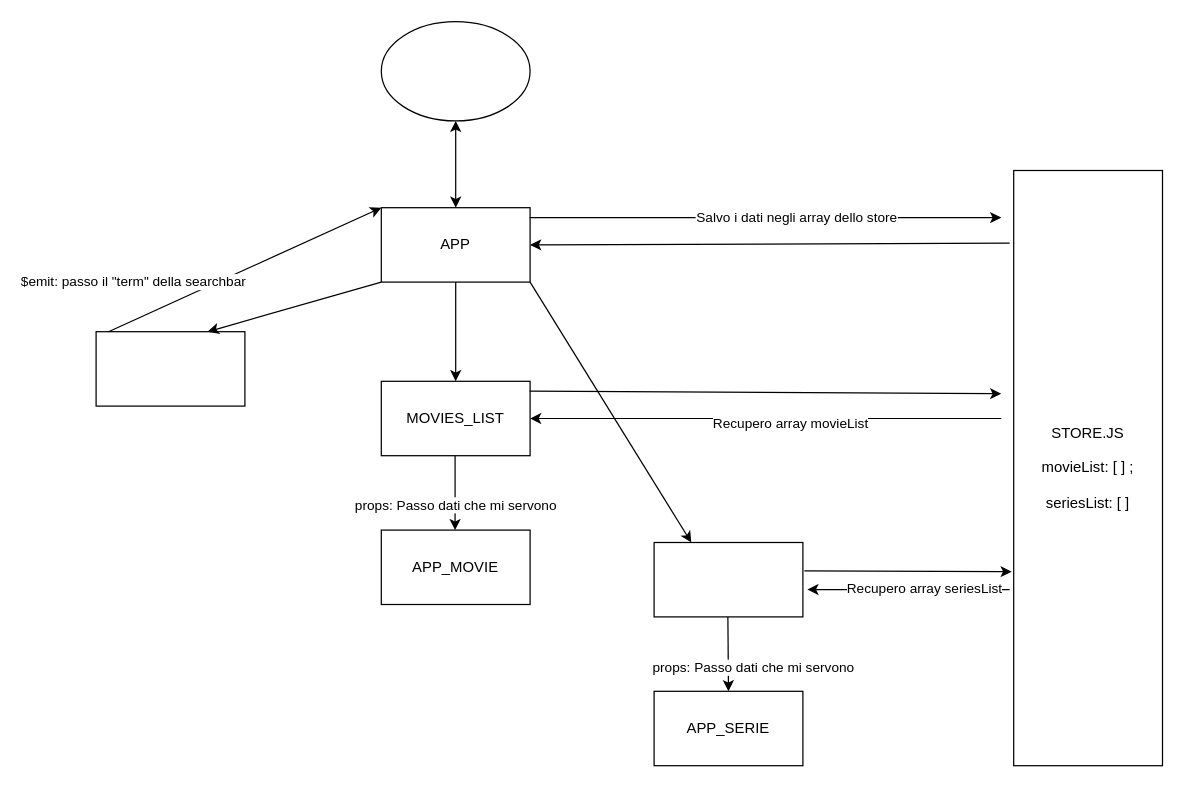
Some shapes in this 1184 by 787 pixel diagram are drawn without their labels. Each missing label, with the centre of its shape:
"API" goes at point 455,70.
"APP_HEADER" goes at point 170,368.
"SERIES_LIST" goes at point 728,579.
